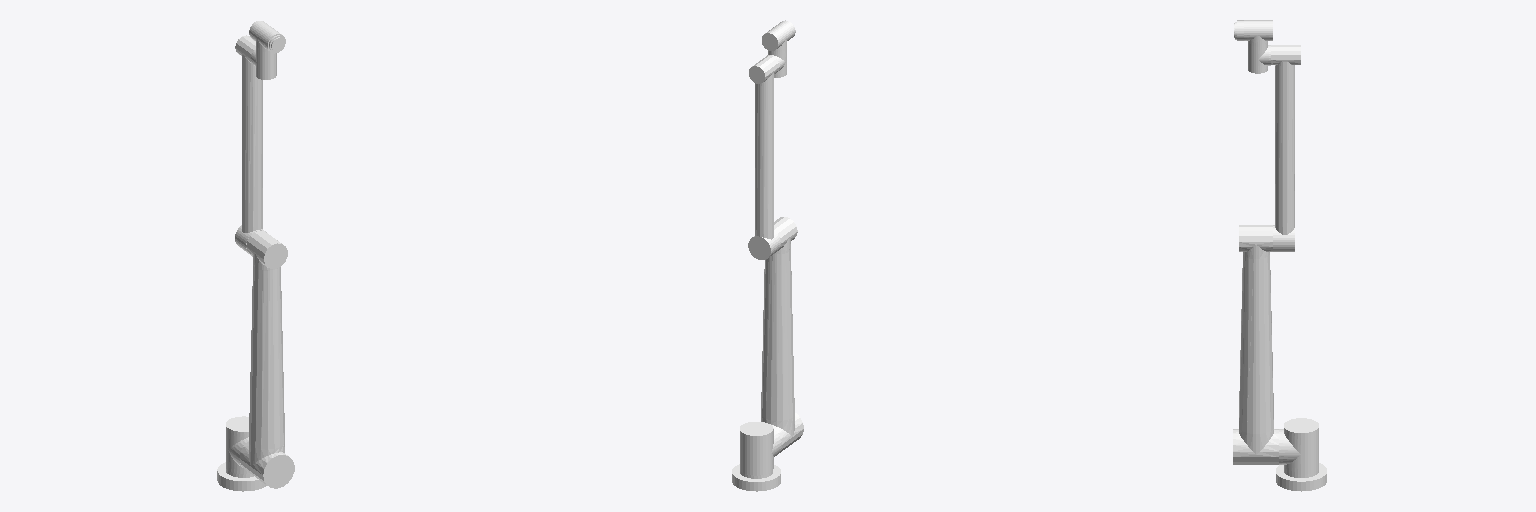
URDF robot description (aubo_iS7_WA):
<?xml version="1.0"?>
<robot name="aubo_iS7_WA">
  <dh_type type="modified" />
  <friction_coeff value="0.65" />
  <link name="link0">
    <inertial>
      <origin xyz="0.000385 0.004596 0.018624" rpy="0 0 0" />
      <mass value="2.019583" />
      <inertia ixx="0.006786" ixy="0.000019" ixz="0.000014" iyy="0.006236" iyz="0.000067" izz="0.012133" />
    </inertial>
    <visual>
      <origin xyz="0 0 0" rpy="0 0 0" />
      <geometry>
        <mesh filename="package://aubo_description/meshes/aubo_iS7_WA/collision/link0.STL" />
      </geometry>
      <material name="">
        <color rgba="1 1 1 1" />
      </material>
    </visual>
    <collision>
      <origin xyz="0 0 0" rpy="0 0 0" />
      <geometry>
        <mesh filename="package://aubo_description/meshes/aubo_iS7_WA/collision/link0.STL" />
      </geometry>
    </collision>
  </link>

  <link name="link1">
    <inertial>
      <origin xyz="-0.00007 0.004977 -0.025682" rpy="0 0 0" />
      <mass value="8.053302" />
      <inertia ixx="0.031562" ixy="-0.000032" ixz="-0.00007" iyy="0.030694" iyz="0.00127" izz="0.023587" />
    </inertial>
    <visual>
      <origin xyz="0 0 0" rpy="0 0 0" />
      <geometry>
        <mesh filename="package://aubo_description/meshes/aubo_iS7_WA/collision/link1.STL" />
      </geometry>
      <material name="">
        <color rgba="1 1 1 1" />
      </material>
    </visual>
    <collision>
      <origin xyz="0 0 0" rpy="0 0 0" />
      <geometry>
        <mesh filename="package://aubo_description/meshes/aubo_iS7_WA/collision/link1.STL" />
      </geometry>
    </collision>
  </link>

  <joint name="joint1" type="revolute">
    <origin xyz="0 0 0.157" rpy="0 0 3.1415926535897932384626433832795" />
    <parent link="link0" />
    <child link="link1" />
    <axis xyz="0 0 1" />
    <limit lower="-6.283185" upper="6.283185" effort="191" start_stop="107" velocity="4.136430" />
    <property inertia="0" damping="0" stiffness="0" offset="0" motor_constant="0" ratio="100" />
  </joint>

  <link name="link2">
    <inertial>
      <origin xyz="0.348469 0.000025 0.003044" rpy="0 0 0" />
      <mass value="16.155754" />
      <inertia ixx="0.054906" ixy="-0.00025" ixz="0.039667" iyy="2.773961" iyz="0.000085" izz="2.762344" />
    </inertial>
    <visual>
      <origin xyz="0 0 0" rpy="0 0 0" />
      <geometry>
        <mesh filename="package://aubo_description/meshes/aubo_iS7_WA/collision/link2.STL" />
      </geometry>
      <material name="">
        <color rgba="1 1 1 1" />
      </material>
    </visual>
    <collision>
      <origin xyz="0 0 0" rpy="0 0 0" />
      <geometry>
        <mesh filename="package://aubo_description/meshes/aubo_iS7_WA/collision/link2.STL" />
      </geometry>
    </collision>
  </link>

  <joint name="joint2" type="revolute">
    <origin xyz="0 0.185 0" rpy="-1.5707963267948966192313216916398 -1.5707963267948966192313216916398 0" />
    <parent link="link1" />
    <child link="link2" />
    <axis xyz="0 0 1" />
    <limit lower="-6.283185" upper="6.283185" effort="191" start_stop="107" velocity="4.136430" />
    <property inertia="0" damping="0" stiffness="0" offset="0" motor_constant="0" ratio="100" />
  </joint>

  <link name="link3">
    <inertial>
      <origin xyz="0.54733 -0.000018 0.096719" rpy="0 0 0" />
      <mass value="3.074175" />
      <inertia ixx="0.003532" ixy="0.000003" ixz="-0.001529" iyy="0.305647" iyz="-0.000001" izz="0.305125" />
    </inertial>
    <visual>
      <origin xyz="0 0 0" rpy="0 0 0" />
      <geometry>
        <mesh filename="package://aubo_description/meshes/aubo_iS7_WA/collision/link3.STL" />
      </geometry>
      <material name="">
        <color rgba="1 1 1 1" />
      </material>
    </visual>
    <collision>
      <origin xyz="0 0 0" rpy="0 0 0" />
      <geometry>
        <mesh filename="package://aubo_description/meshes/aubo_iS7_WA/collision/link3.STL" />
      </geometry>
    </collision>
  </link>

  <joint name="joint3" type="revolute">
    <origin xyz="0.975 0 0" rpy="-3.1415926535897932384626433832795 0 0" />
    <parent link="link2" />
    <child link="link3" />
    <axis xyz="0 0 1" />
    <limit lower="-2.722714" upper="2.722714" effort="143" start_stop="70" velocity="4.136430" />
    <property inertia="0" damping="0" stiffness="0" offset="0" motor_constant="0" ratio="100" />
  </joint>

  <link name="link4">
    <inertial>
      <origin xyz="0.00003 0.011901 -0.002293" rpy="0 0 0" />
      <mass value="1.101737" />
      <inertia ixx="0.00127" ixy="0" ixz="0" iyy="0.000684" iyz="0.000034" izz="0.001246" />
    </inertial>
    <visual>
      <origin xyz="0 0 0" rpy="0 0 0" />
      <geometry>
        <mesh filename="package://aubo_description/meshes/aubo_iS7_WA/collision/link4.STL" />
      </geometry>
      <material name="">
        <color rgba="1 1 1 1" />
      </material>
    </visual>
    <collision>
      <origin xyz="0 0 0" rpy="0 0 0" />
      <geometry>
        <mesh filename="package://aubo_description/meshes/aubo_iS7_WA/collision/link4.STL" />
      </geometry>
    </collision>
  </link>

  <joint name="joint4" type="revolute">
    <origin xyz="0.86 0 0" rpy="3.1415926535897932384626433832795 0 1.5707963267948966192313216916398" />
    <parent link="link3" />
    <child link="link4" />
    <axis xyz="0 0 1" />
    <limit lower="-6.283185" upper="6.283185" effort="70" start_stop="36" velocity="4.136430" />
    <property inertia="0" damping="0" stiffness="0" offset="0" motor_constant="0" ratio="100" />
  </joint>

  <link name="link5">
    <inertial>
      <origin xyz="-0.00003 -0.011901 -0.002293" rpy="0 0 0" />
      <mass value="1.101737" />
      <inertia ixx="0.00127" ixy="0" ixz="0" iyy="0.000684" iyz="-0.000034" izz="0.001246" />
    </inertial>
    <visual>
      <origin xyz="0 0 0" rpy="0 0 0" />
      <geometry>
        <mesh filename="package://aubo_description/meshes/aubo_iS7_WA/collision/link5.STL" />
      </geometry>
      <material name="">
        <color rgba="1 1 1 1" />
      </material>
    </visual>
    <collision>
      <origin xyz="0 0 0" rpy="0 0 0" />
      <geometry>
        <mesh filename="package://aubo_description/meshes/aubo_iS7_WA/collision/link5.STL" />
      </geometry>
    </collision>
  </link>

  <joint name="joint5" type="revolute">
    <origin xyz="0 0.115 0" rpy="-1.5707963267948966192313216916398 0 0" />
    <parent link="link4" />
    <child link="link5" />
    <axis xyz="0 0 1" />
    <limit lower="-6.283185" upper="6.283185" effort="70" start_stop="36" velocity="4.136430" />
    <property inertia="0" damping="0" stiffness="0" offset="0" motor_constant="0" ratio="100" />
  </joint>

  <link name="link6">
    <inertial>
      <origin xyz="-0.000845 0.000356 -0.017152" rpy="0 0 0" />
      <mass value="0.238363" />
      <inertia ixx="0.000126" ixy="-0.000002" ixz="0.000001" iyy="0.00013" iyz="-0.000001" izz="0.000207" />
    </inertial>
    <visual>
      <origin xyz="0 0 0" rpy="0 0 0" />
      <geometry>
        <mesh filename="package://aubo_description/meshes/aubo_iS7_WA/collision/link6.STL" />
      </geometry>
      <material name="">
        <color rgba="1 1 1 1" />
      </material>
    </visual>
    <collision>
      <origin xyz="0 0 0" rpy="0 0 0" />
      <geometry>
        <mesh filename="package://aubo_description/meshes/aubo_iS7_WA/collision/link6.STL" />
      </geometry>
    </collision>
  </link>

  <joint name="joint6" type="revolute">
    <origin xyz="0 -0.102 0" rpy="1.5707963267948966192313216916398 0 0" />
    <parent link="link5" />
    <child link="link6" />
    <axis xyz="0 0 1" />
    <limit lower="-6.283185" upper="6.283185" effort="70" start_stop="36" velocity="4.136430" />
    <property inertia="0" damping="0" stiffness="0" offset="0" motor_constant="0" ratio="100" />
  </joint>

  <link name="world" />
  <joint name="joint0" type="fixed">
    <parent link="world" />
    <child link="link0" />
    <origin xyz="0.0 0.0 0.0" rpy="0.0 0.0 0.0" />
  </joint>
</robot>

--- What the picture shows (computed from the rendered views, not written in the file) ---
Views: 3 orthographic renders of the robot side by side, from view 1: azimuth 30°, elevation 25°; view 2: azimuth 150°, elevation 25°; view 3: azimuth 270°, elevation 25°.
Model aubo_iS7_WA with 8 links and 7 joints (6 revolute, 1 fixed), rooted at world, posed all joints at 0.
Links seen in each view (by area): view 1: link2, link3, link1, link0, link4; view 2: link2, link3, link1, link0, link5; view 3: link2, link3, link1, link0, link5, link4.
Link boxes in pixels (x1=…): link2: x1=240, y1=231, x2=294, y2=488; link3: x1=235, y1=35, x2=265, y2=253; link1: x1=226, y1=416, x2=249, y2=474; link0: x1=217, y1=462, x2=266, y2=491; link4: x1=251, y1=49, x2=276, y2=79; link2: x1=761, y1=217, x2=803, y2=452; link3: x1=748, y1=56, x2=780, y2=259; link1: x1=740, y1=422, x2=781, y2=475; link0: x1=732, y1=464, x2=780, y2=491; link5: x1=762, y1=23, x2=792, y2=51; link2: x1=1233, y1=225, x2=1278, y2=464; link3: x1=1271, y1=45, x2=1300, y2=251; link1: x1=1279, y1=418, x2=1318, y2=474; link0: x1=1276, y1=463, x2=1326, y2=491; link5: x1=1244, y1=20, x2=1272, y2=46; link4: x1=1248, y1=44, x2=1270, y2=73.
Size in the robot's own frame: 0.22 by 0.4015 by 2.15 metres.
7 mesh visuals loaded from 7 distinct referenced files (7 binary STL).
